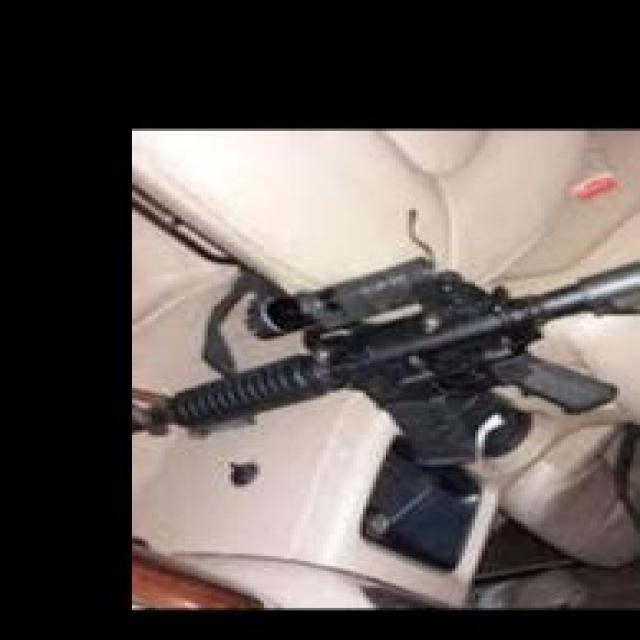weapon: (130, 256, 640, 469)
